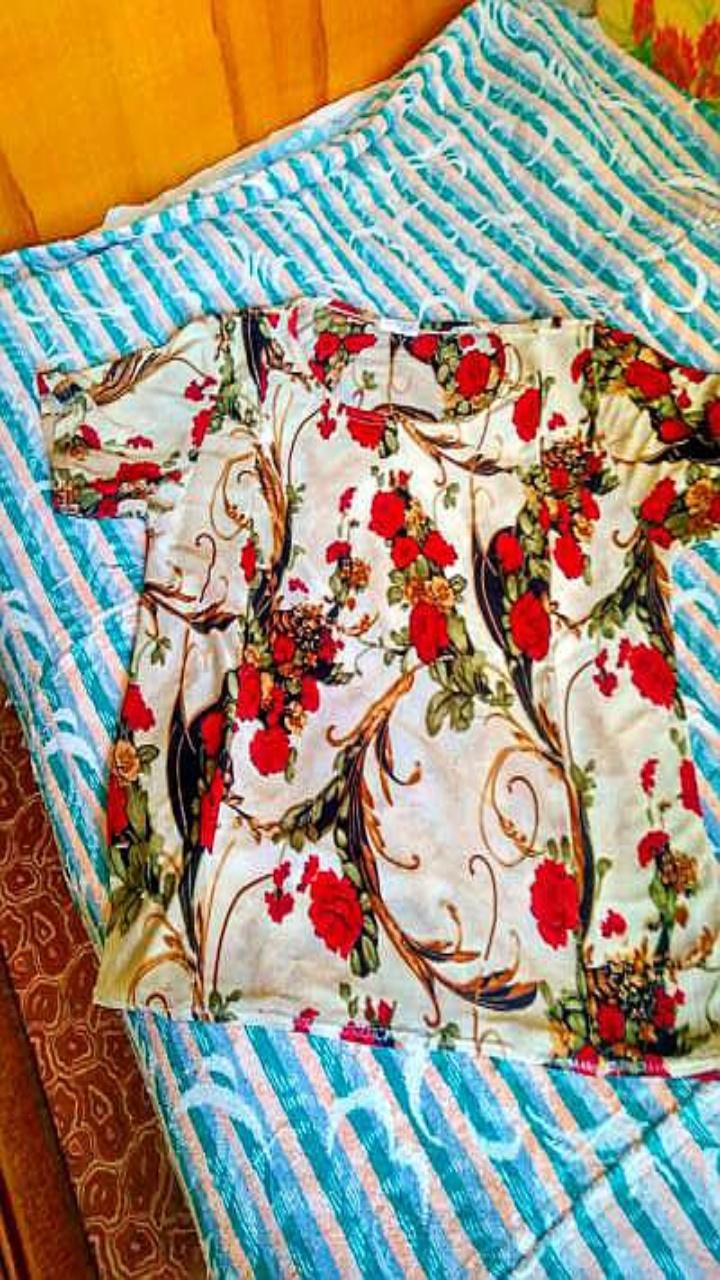T-Shirt: (41, 300, 719, 1073)
